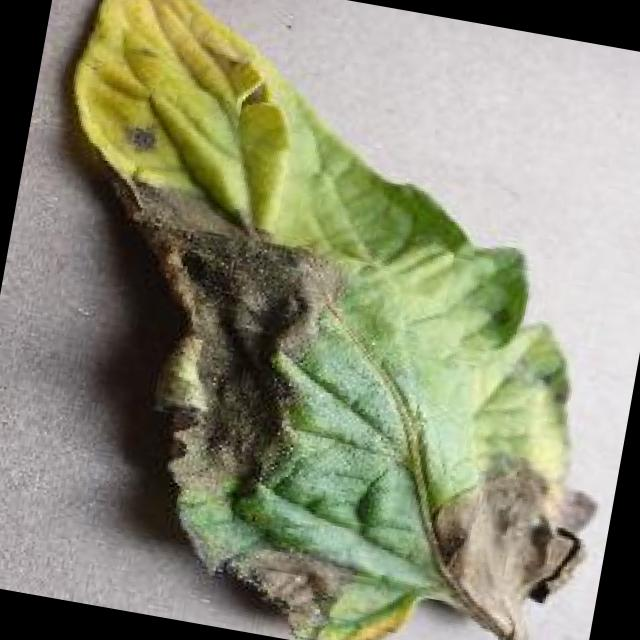Tomato_Late_Blight: (51, 160, 437, 630), (406, 408, 615, 640)
